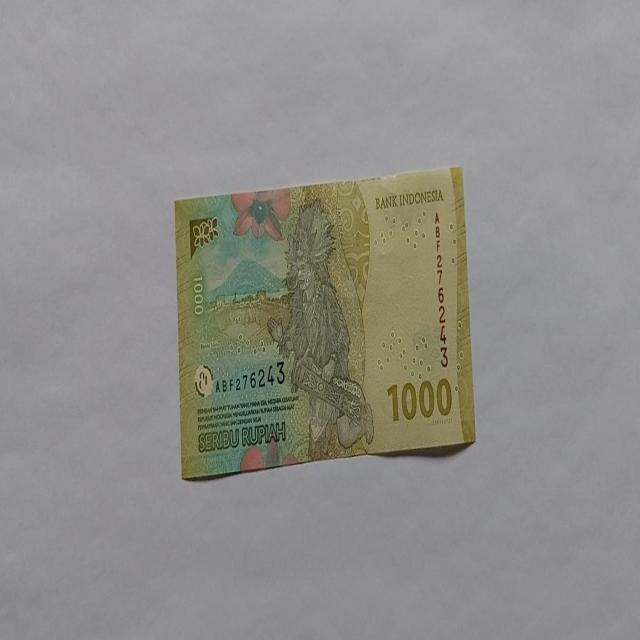seribu rupiah kertas: (174, 164, 476, 481)
